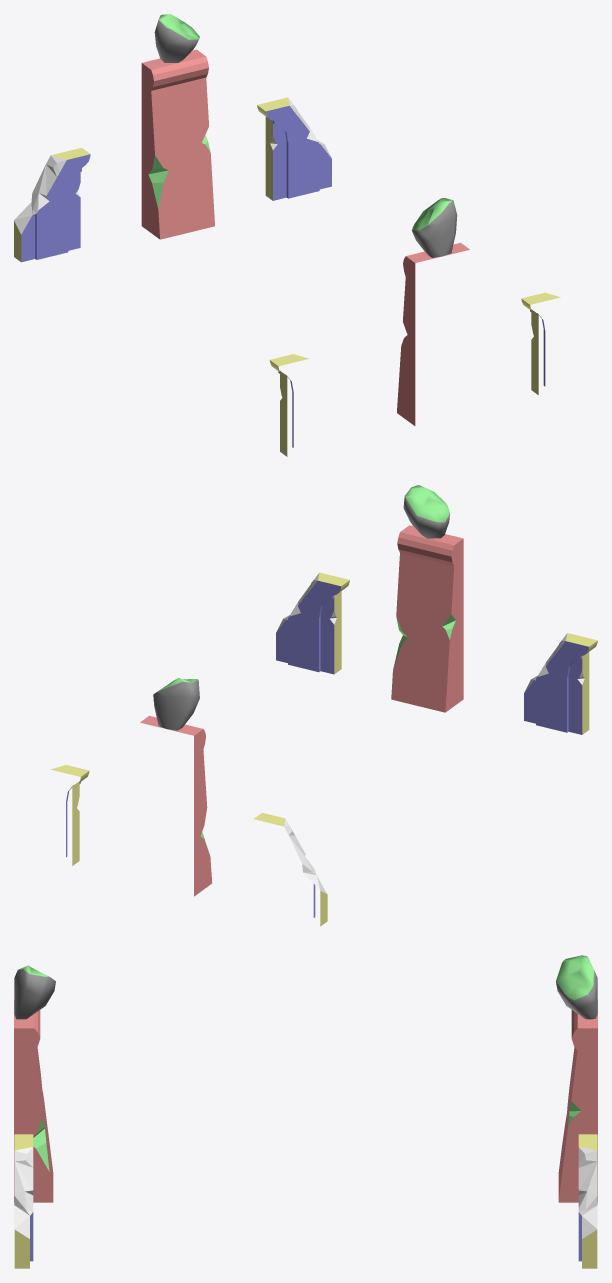
File: SSQ_hallway_Bobjset02.gltf
3 renders of one model, top to bottom at view 1: azimuth 30°, elevation 25°; view 2: azimuth 150°, elevation 25°; view 3: azimuth 270°, elevation 25°, orthographic. The views are drawn at different scales.
Parts seen in each view (by area): view 1: SSQ_hallway_Bobjset02; view 2: SSQ_hallway_Bobjset02; view 3: SSQ_hallway_Bobjset02.
Part boxes in pixels (<box>): SSQ_hallway_Bobjset02: <box>14,14,560,456</box>; SSQ_hallway_Bobjset02: <box>50,485,597,926</box>; SSQ_hallway_Bobjset02: <box>14,955,597,1268</box>.
Size of the model in its own units: 2.16 by 1.37 by 3.21.
